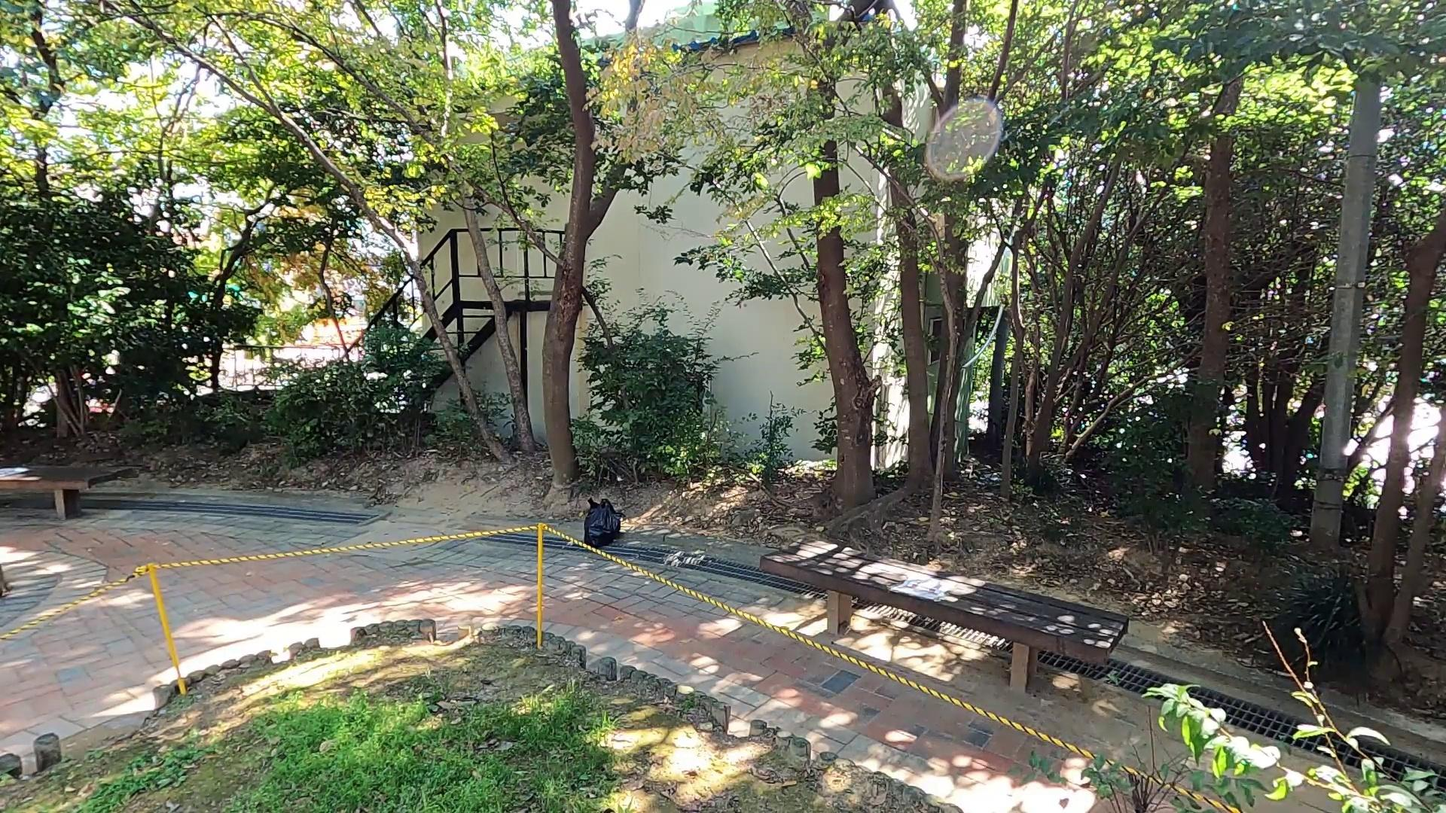trash: (581, 497, 629, 550)
